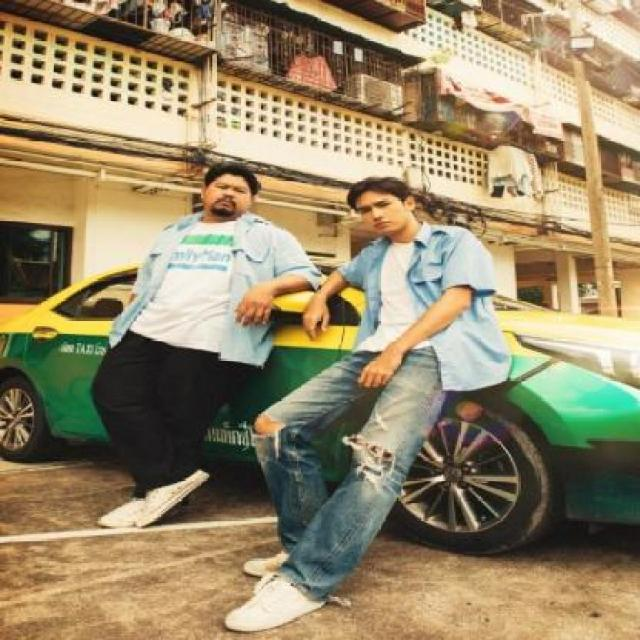sem_oculos: (342, 198, 419, 215), (206, 176, 251, 202)
